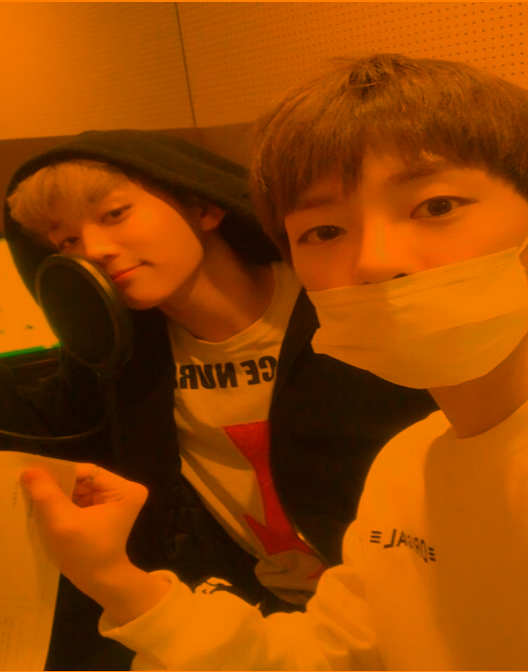mask_weared_incorrect: (258, 57, 527, 391)
